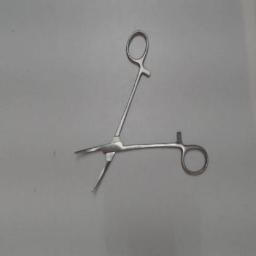Crile Artery Forceps: (71, 26, 213, 202)
